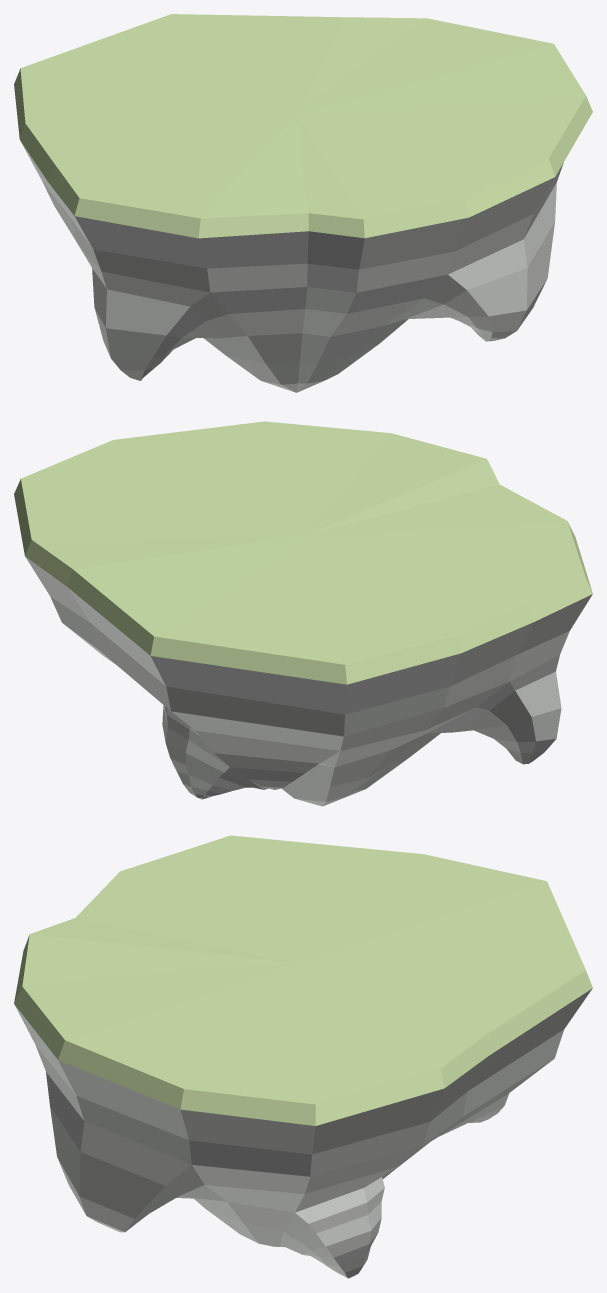
Rendered from FLOATINGISLAND4.fbx.
3 views of the same model, one above another, from view 1: azimuth 30°, elevation 25°; view 2: azimuth 150°, elevation 25°; view 3: azimuth 270°, elevation 25° (orthographic). The views are drawn at different scales.
Parts seen in each view (by area): view 1: Vert.001, Vert; view 2: Vert.001, Vert; view 3: Vert.001, Vert.
Boxes of the visible parts, x1=… form: Vert.001: x1=14, y1=14, x2=592, y2=238; Vert: x1=21, y1=142, x2=563, y2=392; Vert.001: x1=14, y1=421, x2=592, y2=684; Vert: x1=25, y1=556, x2=592, y2=806; Vert.001: x1=14, y1=835, x2=592, y2=1125; Vert: x1=14, y1=988, x2=592, y2=1278.
Size of the model in its own units: 566 by 277 by 502.
